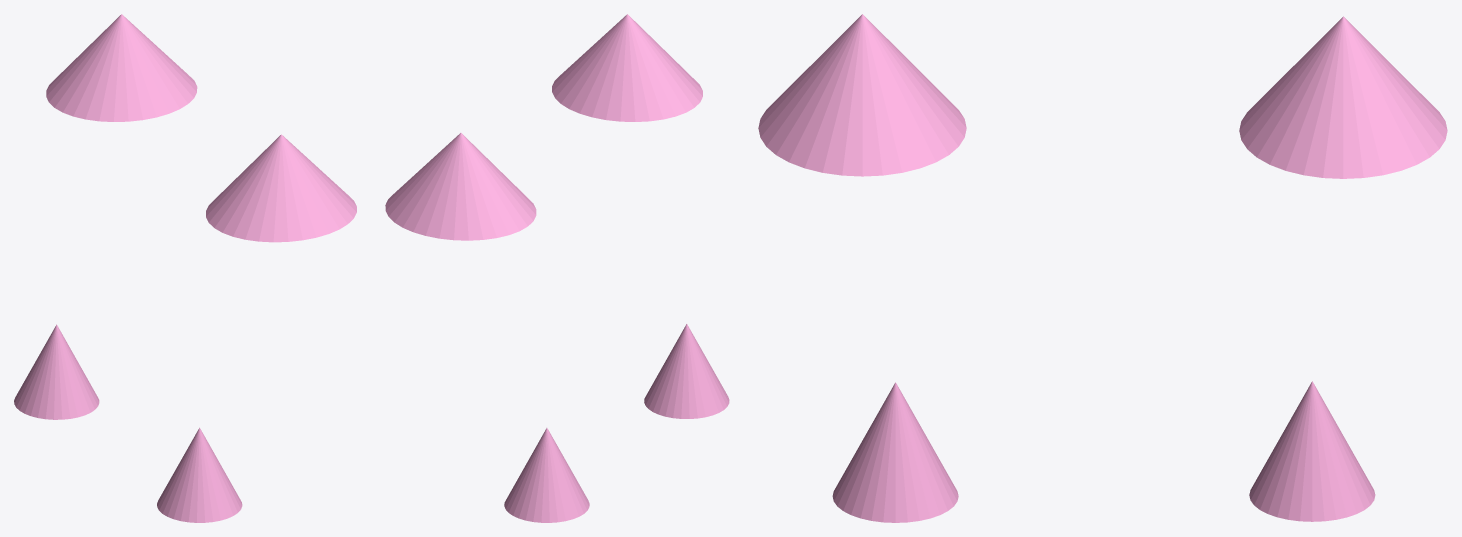
Rendered from castle walls 30.fbx.
3 views of the same model, side by side, from view 1: azimuth 30°, elevation 25°; view 2: azimuth 150°, elevation 25°; view 3: azimuth 270°, elevation 25° (orthographic). The views are drawn at different scales.
Visible parts, largest first — view 1: Cone; view 2: Cone; view 3: Cone.
Part boxes in pixels (bbox=[...]): Cone: bbox=[14, 14, 356, 522]; Cone: bbox=[385, 14, 729, 522]; Cone: bbox=[758, 14, 1447, 522].
Size of the model in its own units: 485 by 933 by 1093.
